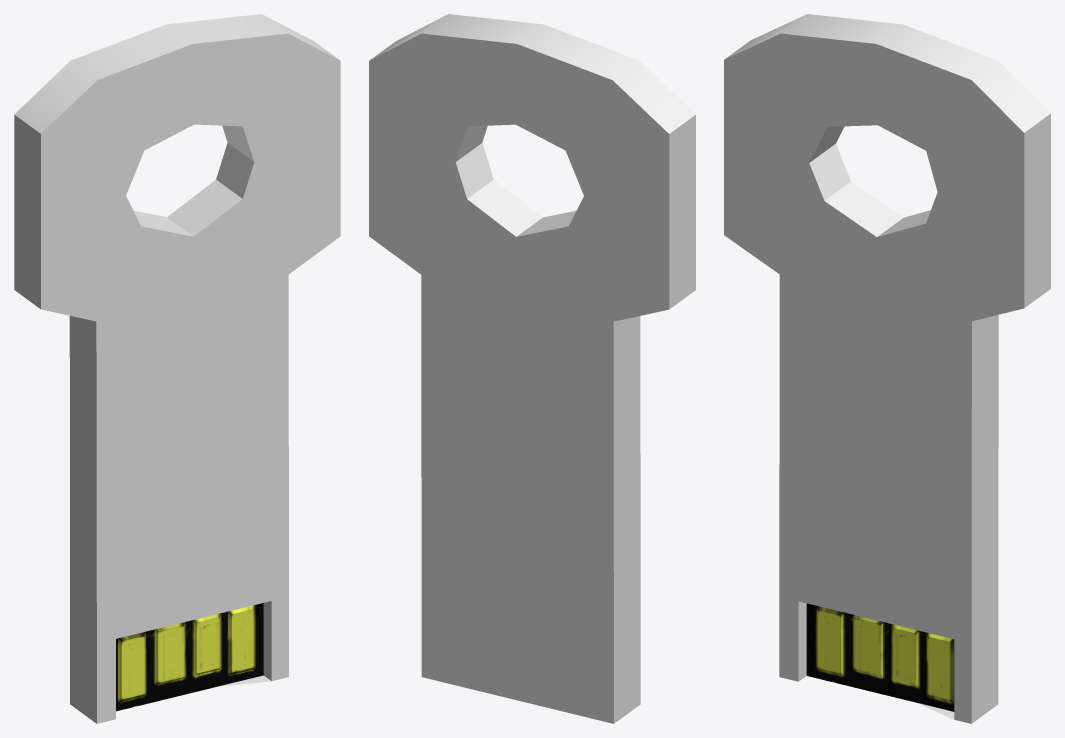
Rendered from key.fbx.
3 renders of one model, left to right at view 1: azimuth 30°, elevation 25°; view 2: azimuth 150°, elevation 25°; view 3: azimuth 330°, elevation 25°, orthographic.
Visible parts, largest first — view 1: pCube3; view 2: pCube3; view 3: pCube3.
Part boxes in pixels (x1,y1,x2,y2): pCube3: (14, 14, 340, 723); pCube3: (369, 14, 695, 723); pCube3: (724, 14, 1050, 723).
Bounding box in the file's own units: 0.7805 × 1.63 × 0.1222.
1 material, 1 textured.
